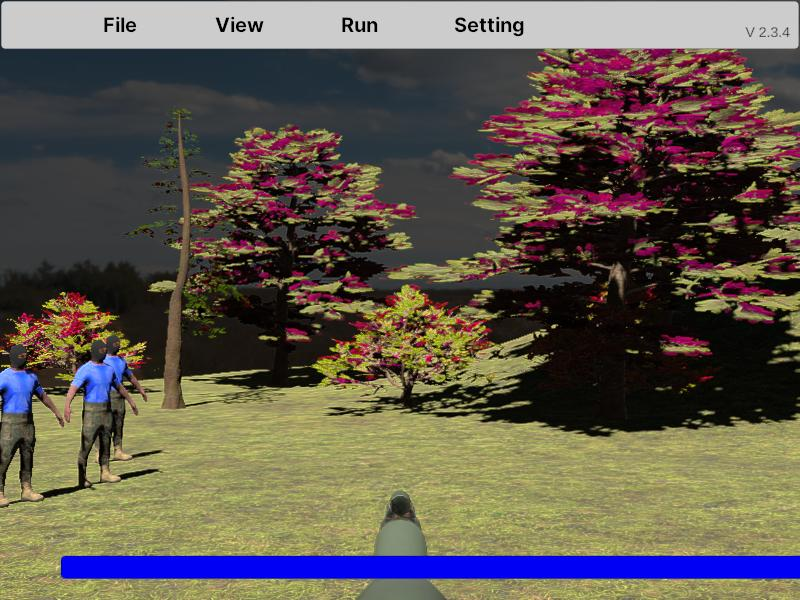Human: (62, 338, 137, 489), (0, 346, 64, 504), (83, 335, 147, 461)
